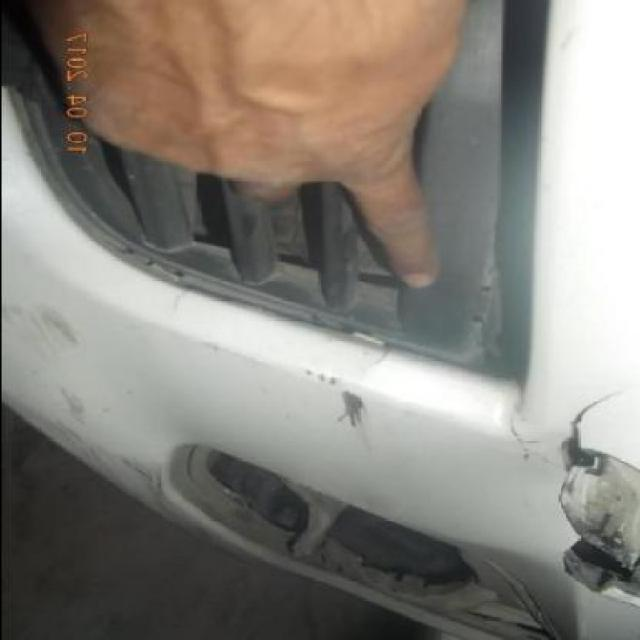damage: (559, 386, 640, 601), (96, 445, 249, 552), (41, 415, 129, 495), (0, 298, 80, 364), (328, 386, 371, 429), (54, 378, 90, 427)
